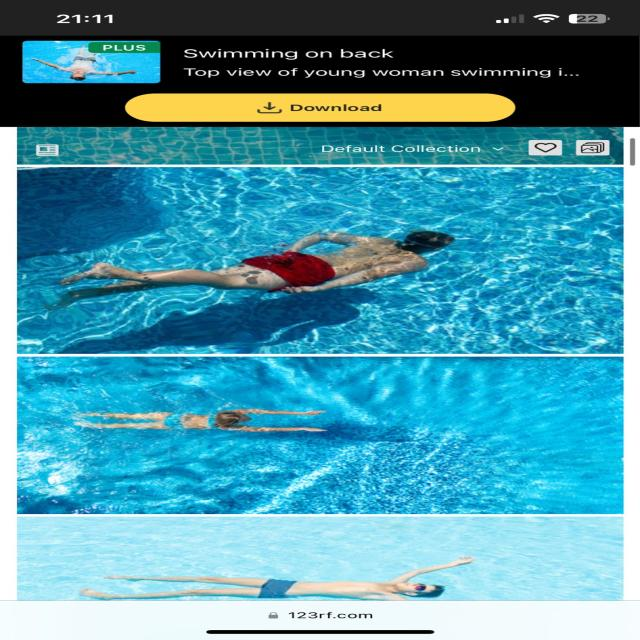Swimming: (58, 223, 454, 296), (73, 564, 504, 599), (71, 403, 332, 436)
